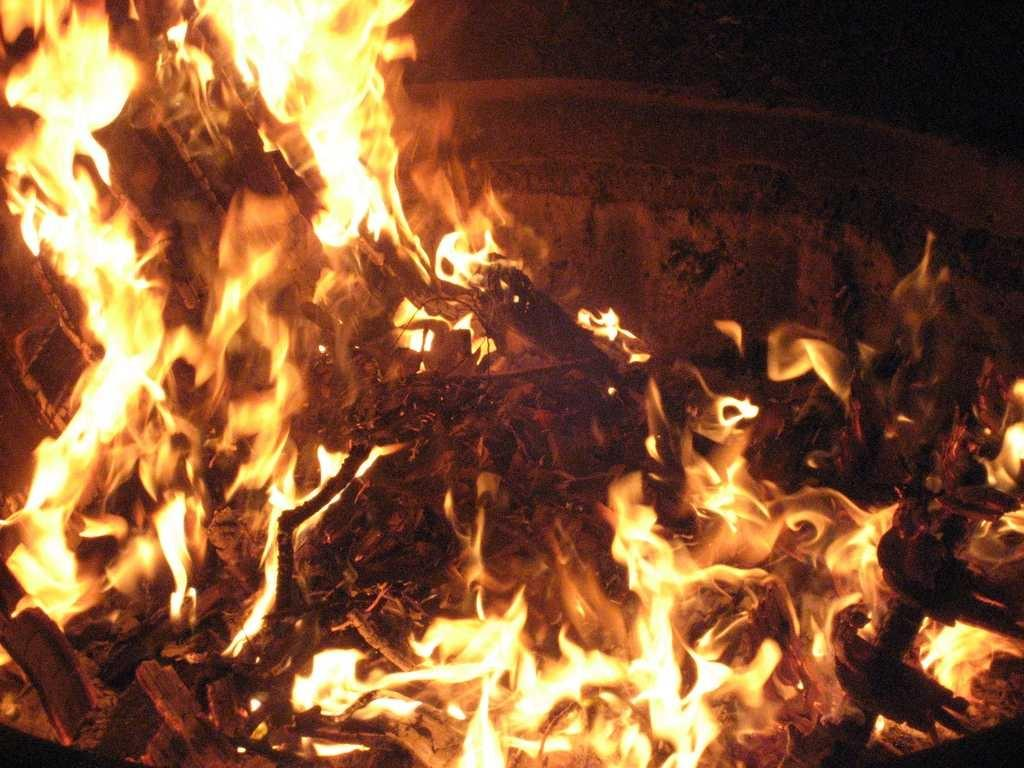fire: (456, 640, 698, 752), (292, 0, 384, 182), (14, 12, 106, 170), (86, 234, 144, 432), (26, 460, 78, 592)
